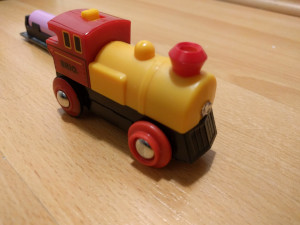brio: (47, 3, 220, 172)
